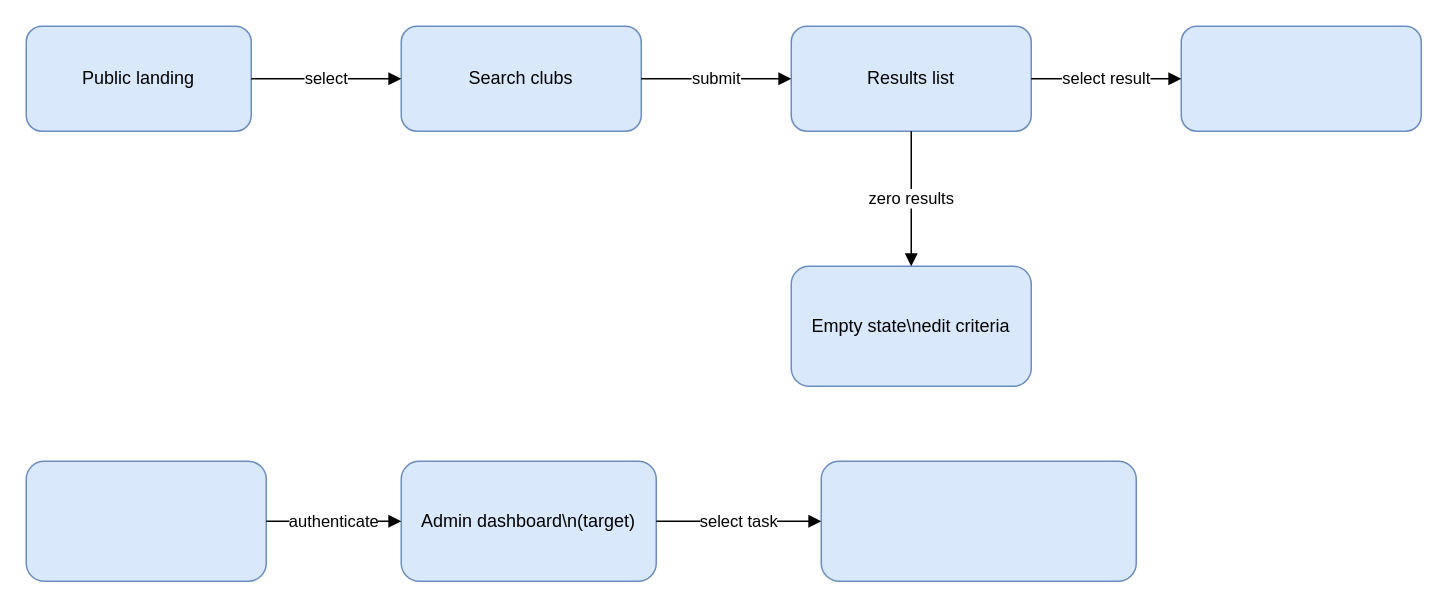
Image size: 1448x608. Some labels were removed from this diagram. The box of each missing label's shape, as (x1, y1, x2, y2) in pixels:
Admin sign-in\n(target): (25, 460, 266, 581)
Club details: (1180, 25, 1421, 131)
Review registration /\nvenue request (target): (820, 460, 1136, 581)
